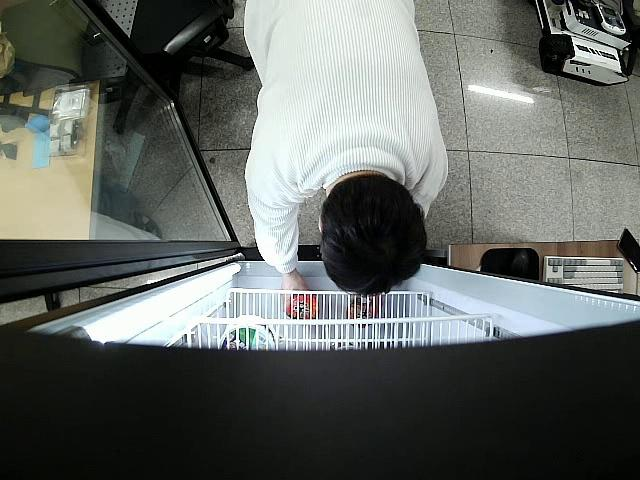00_hand: (281, 270, 313, 314)
02_shinRamen_S: (287, 290, 319, 321)
